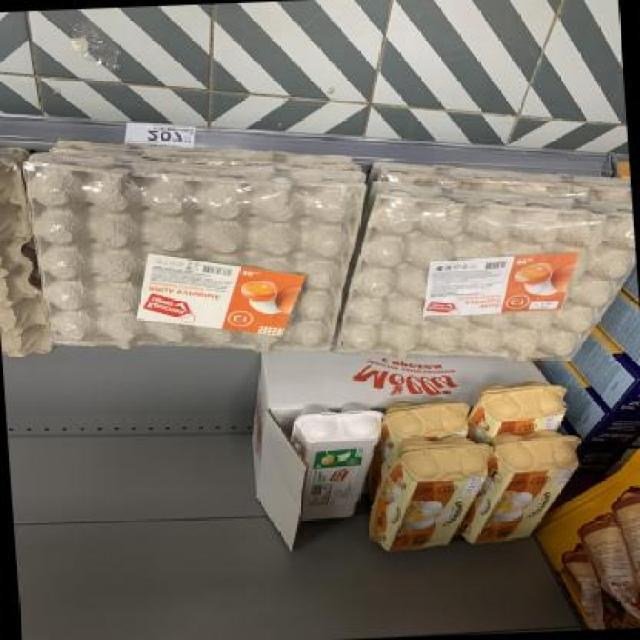Egg: (365, 436, 493, 556), (461, 432, 583, 544), (291, 401, 387, 522), (472, 383, 564, 436), (385, 398, 469, 441)
